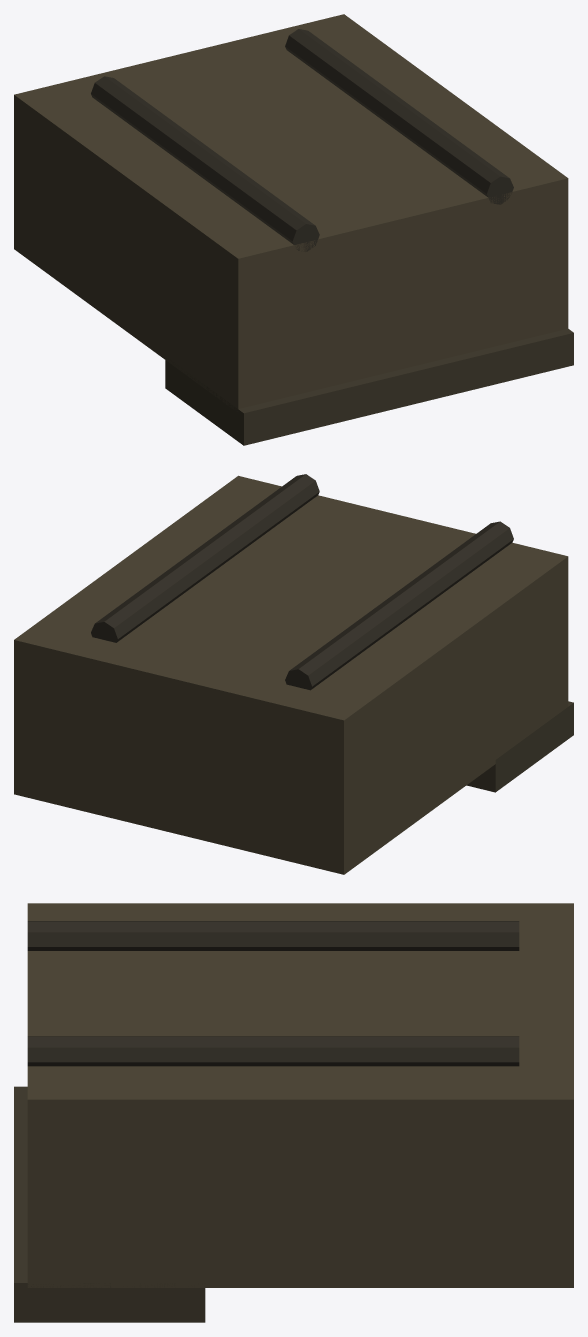
File: backpack_worn.obj
The picture shows the model from 3 angles, top to bottom: view 1: azimuth 30°, elevation 25°; view 2: azimuth 150°, elevation 25°; view 3: azimuth 270°, elevation 25°; orthographic projection. The views are drawn at different scales.
Bounding box in the file's own units: 0.85 × 0.495 × 1.02.
